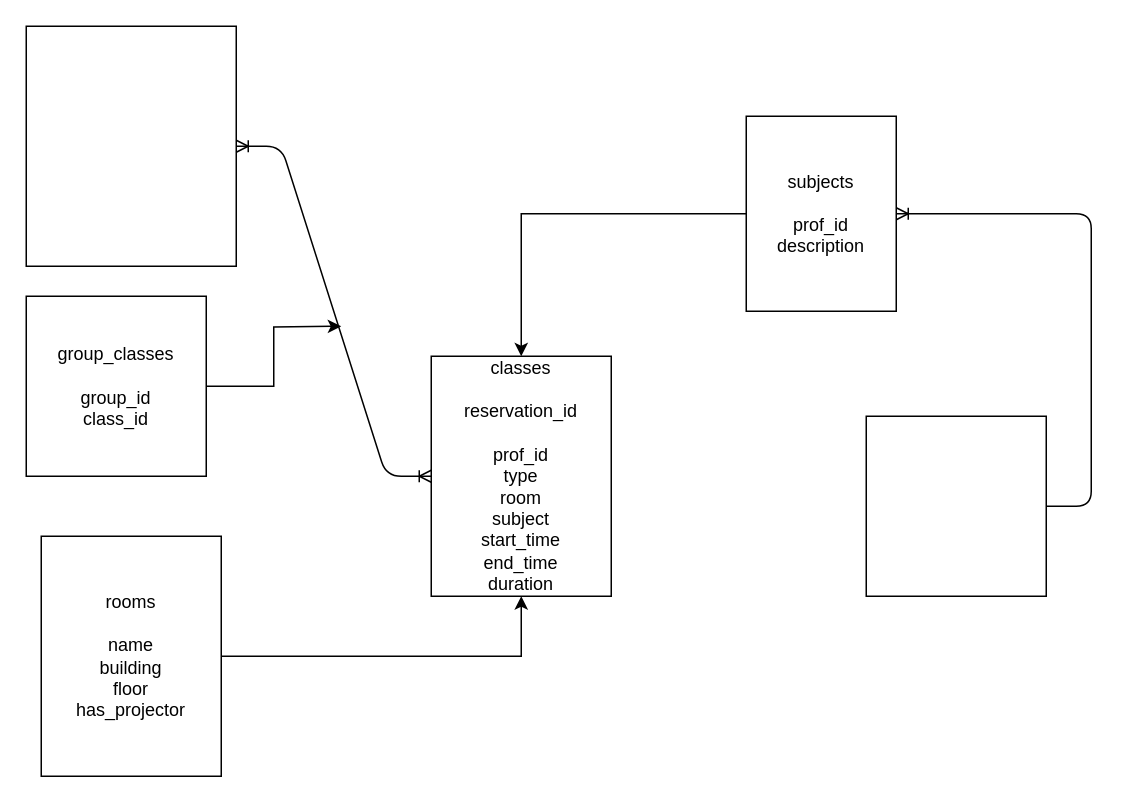
Image size: 1130x803. Some labels were removed from this diagram. The shapes that lost their labels are listed below. From the top down, each one's box as (x1, y1, x2, y2) in pixels, then its label:
(25, 25, 236, 266): groups name serie size
(865, 415, 1046, 596): profs description
